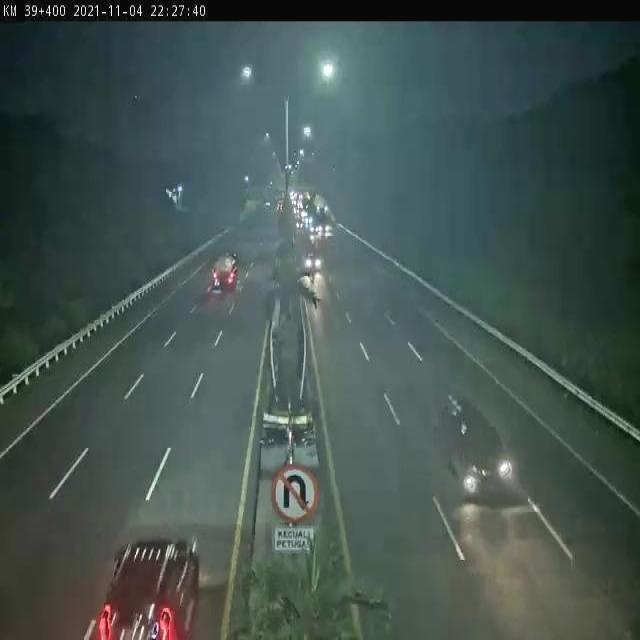Car: (78, 526, 204, 640), (429, 370, 512, 502), (299, 245, 325, 274)
